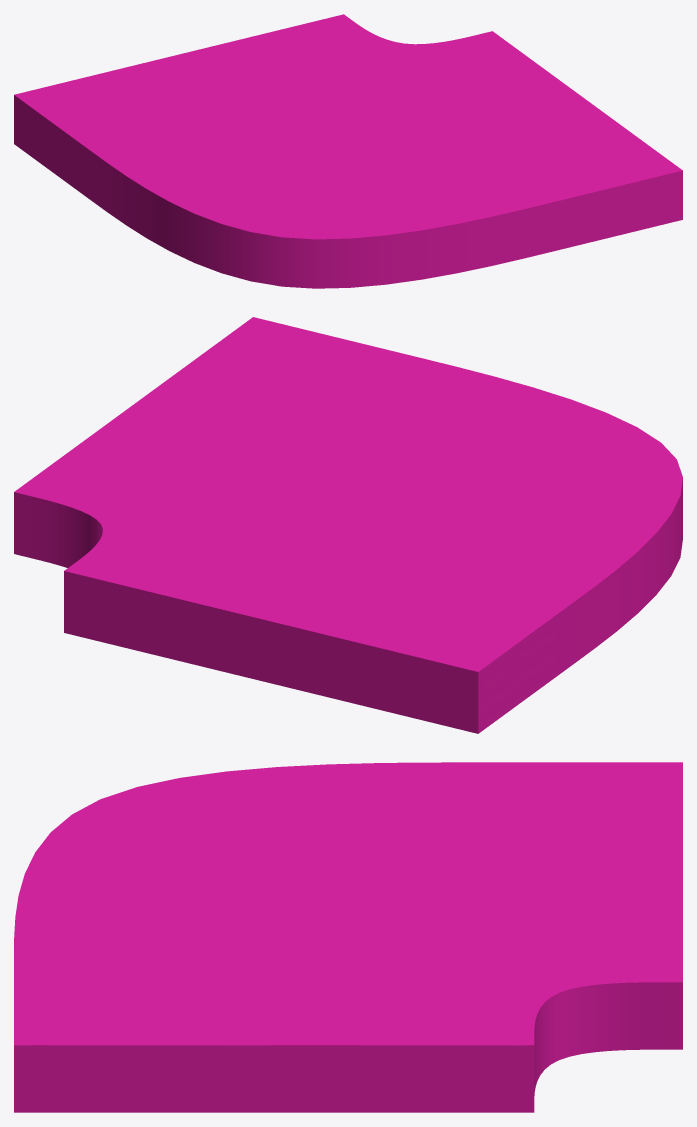
File: Rounded corner.fbx
3 views of the same model, one above another, from view 1: azimuth 30°, elevation 25°; view 2: azimuth 150°, elevation 25°; view 3: azimuth 270°, elevation 25° (orthographic). The views are drawn at different scales.
Visible parts, largest first — view 1: Plane.001; view 2: Plane.001; view 3: Plane.001.
Boxes of the visible parts, x1,y1,x2,y2 form: Plane.001: [14, 14, 682, 288]; Plane.001: [14, 317, 682, 733]; Plane.001: [14, 762, 682, 1112].
Size of the model in its own units: 900 by 100 by 900.
